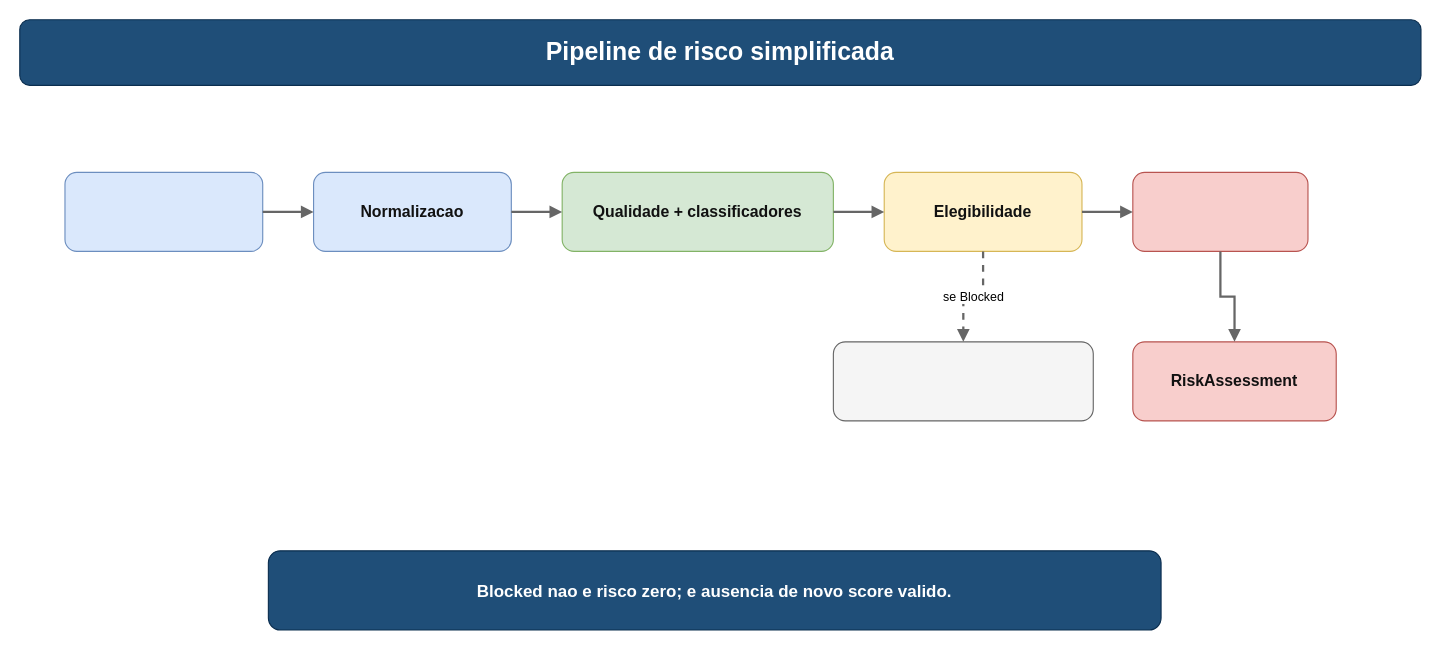
The diagram is 1441 pixels wide and 650 high, and some of its shapes have lost their labels. Each missing label, with the centre of its shape:
"Blocked -> sem novo score" belongs at [962,381].
"Evento recebido" belongs at [163,211].
"RiskInput" belongs at [1220,211].
